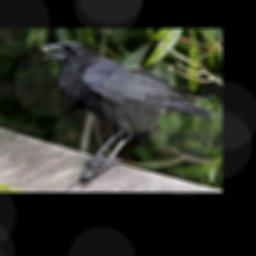Crow: (39, 40, 215, 173)
